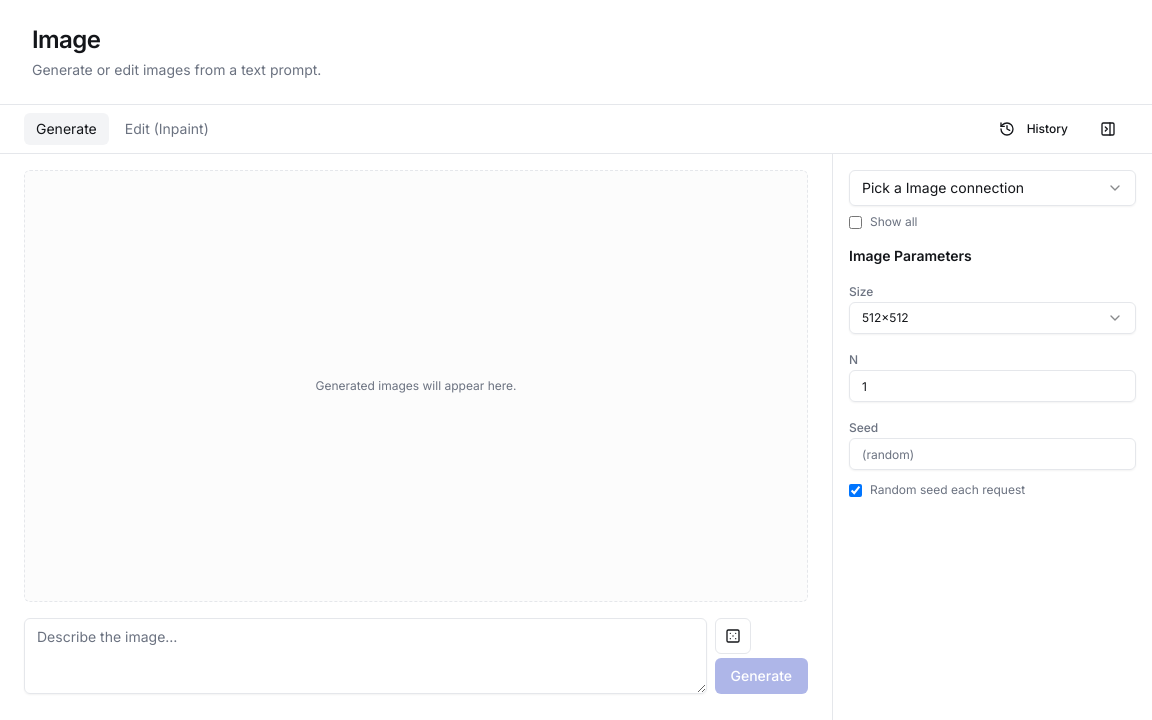
Test case: ImagePage › renders Generate + Edit tabs and toggles to InpaintMode when clicked
The width and height of the screenshot is (1152, 720).
Click the button "Edit (Inpaint)". click: (167, 129)
box: left=113, top=113, right=221, bottom=145
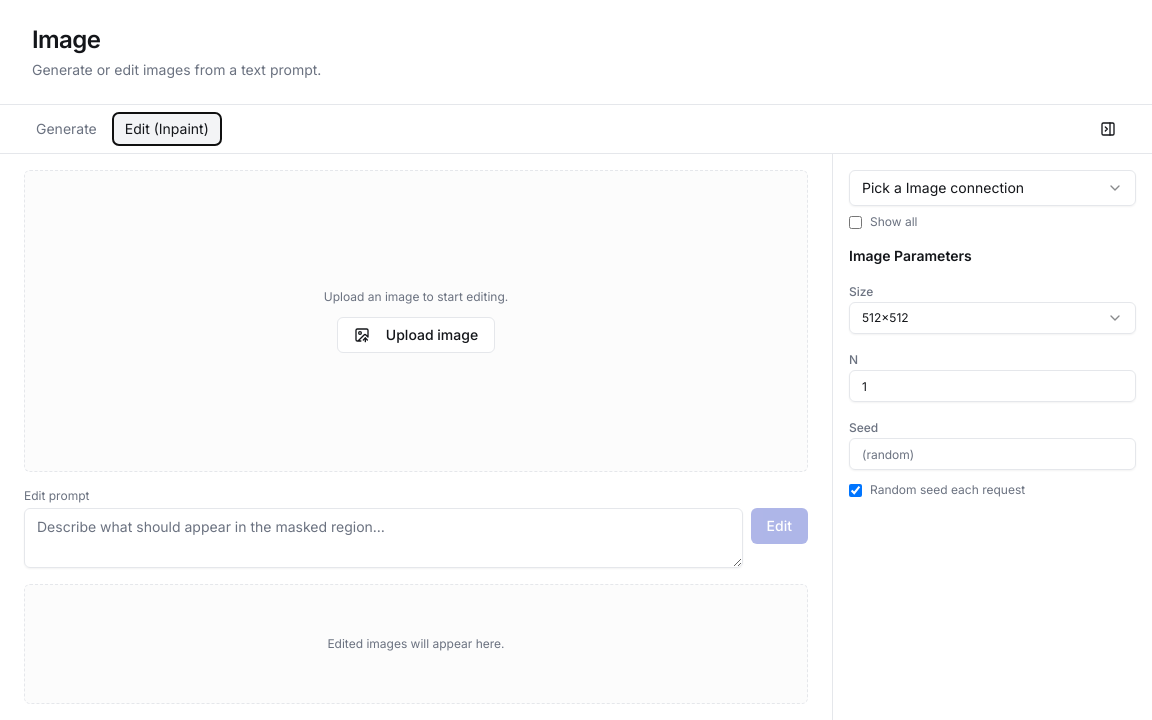
Now the button "Upload image" is shown, box left=337, top=317, right=495, bottom=353
